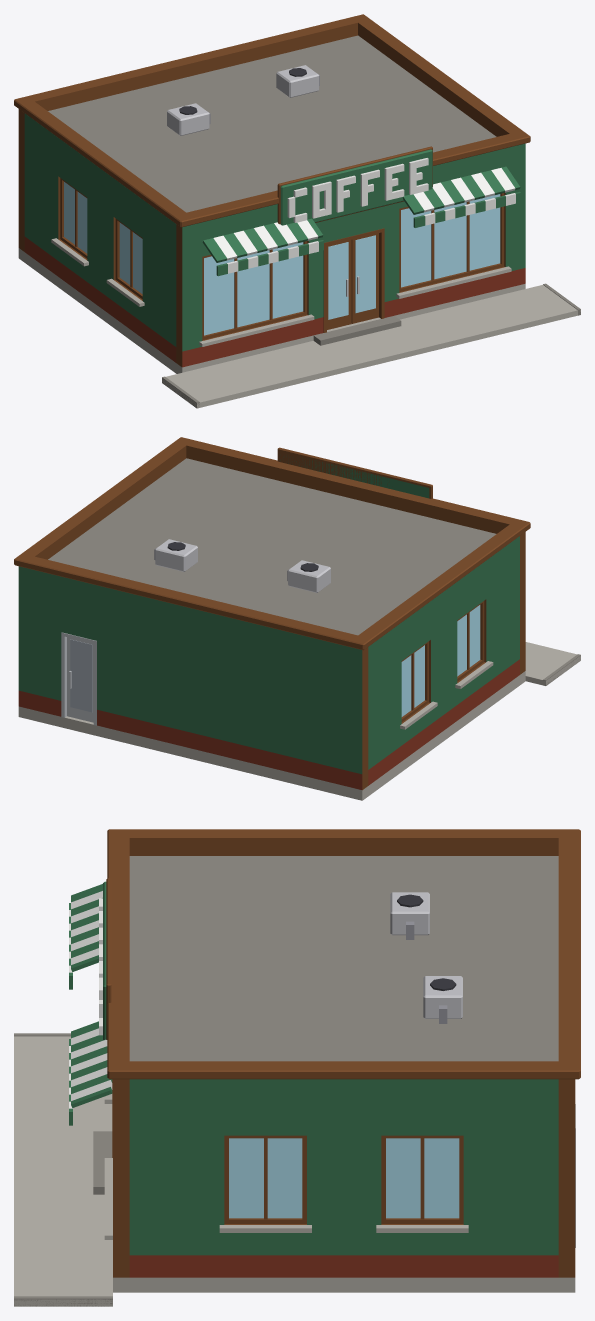
File: CoffeeShop.fbx
3 renders of one model, top to bottom at view 1: azimuth 30°, elevation 25°; view 2: azimuth 150°, elevation 25°; view 3: azimuth 270°, elevation 25°, orthographic. The views are drawn at different scales.
Visible parts, largest first — view 1: CoffeeShop, CoffeeShop_Roof, CoffeeShop_Glass, CoffeeShop_Sign, CoffeeShop_DoorR, CoffeeShop_DoorL; view 2: CoffeeShop, CoffeeShop_Roof, CoffeeShop_Glass, CoffeeShop_Sign, CoffeeShop_BackDoor; view 3: CoffeeShop, CoffeeShop_Roof, CoffeeShop_Glass, CoffeeShop_Sign.
Part boxes in pixels (box(x1,y1,x2,y2)): CoffeeShop: box(14, 14, 580, 408); CoffeeShop_Roof: box(48, 35, 496, 212); CoffeeShop_Glass: box(64, 182, 500, 335); CoffeeShop_Sign: box(277, 146, 432, 225); CoffeeShop_DoorR: box(351, 233, 378, 323); CoffeeShop_DoorL: box(327, 239, 351, 329); CoffeeShop: box(14, 437, 580, 800); CoffeeShop_Roof: box(48, 458, 496, 635); CoffeeShop_Glass: box(401, 605, 480, 716); CoffeeShop_Sign: box(277, 447, 432, 498); CoffeeShop_BackDoor: box(67, 637, 93, 722); CoffeeShop: box(14, 829, 580, 1306); CoffeeShop_Roof: box(129, 856, 558, 1061); CoffeeShop_Glass: box(229, 1138, 459, 1218); CoffeeShop_Sign: box(99, 878, 111, 1039).
Size of the model in its own units: 38 by 16.25 by 34.35.
1 material, 1 textured.
